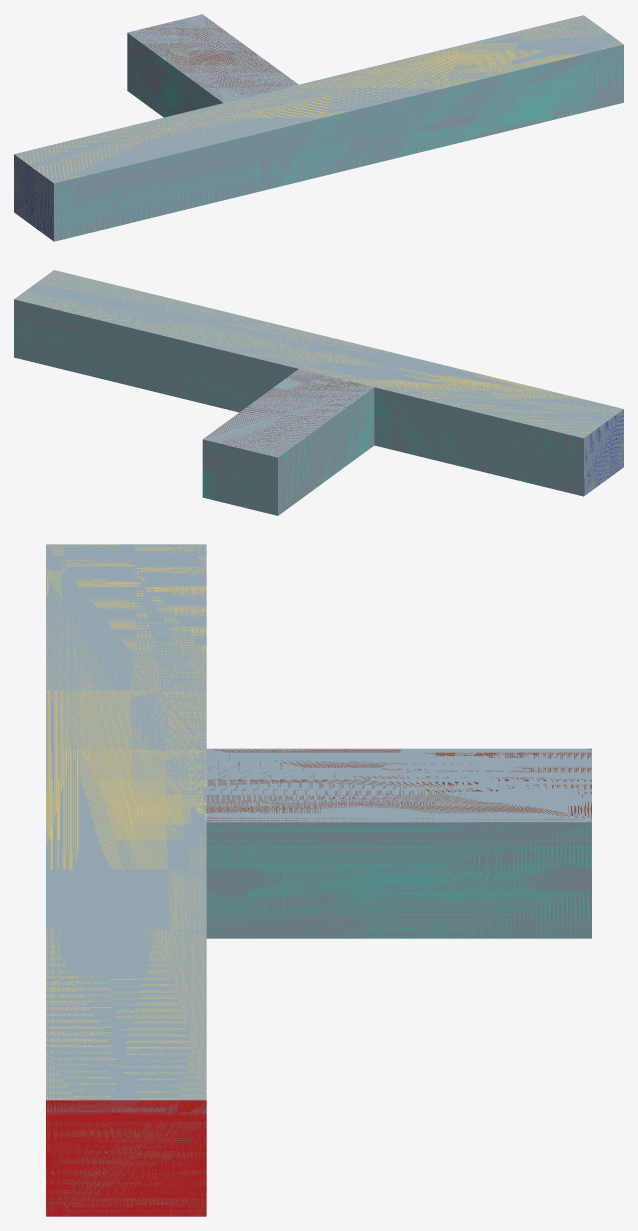
The model's file is ExampleStaticHeatConduction2D.obj.
3 views of the same model, one above another, from view 1: azimuth 30°, elevation 25°; view 2: azimuth 150°, elevation 25°; view 3: azimuth 270°, elevation 25° (orthographic). The views are drawn at different scales.
Parts seen in each view (by area): view 1: Mesh1 Model; view 2: Mesh1 Model; view 3: Mesh1 Model.
Part boxes in pixels (<box>): Mesh1 Model: <box>14,14,623,241</box>; Mesh1 Model: <box>14,270,623,515</box>; Mesh1 Model: <box>46,544,591,1216</box>.
Size of the model in its own units: 0.41 by 0.04 by 0.17.
